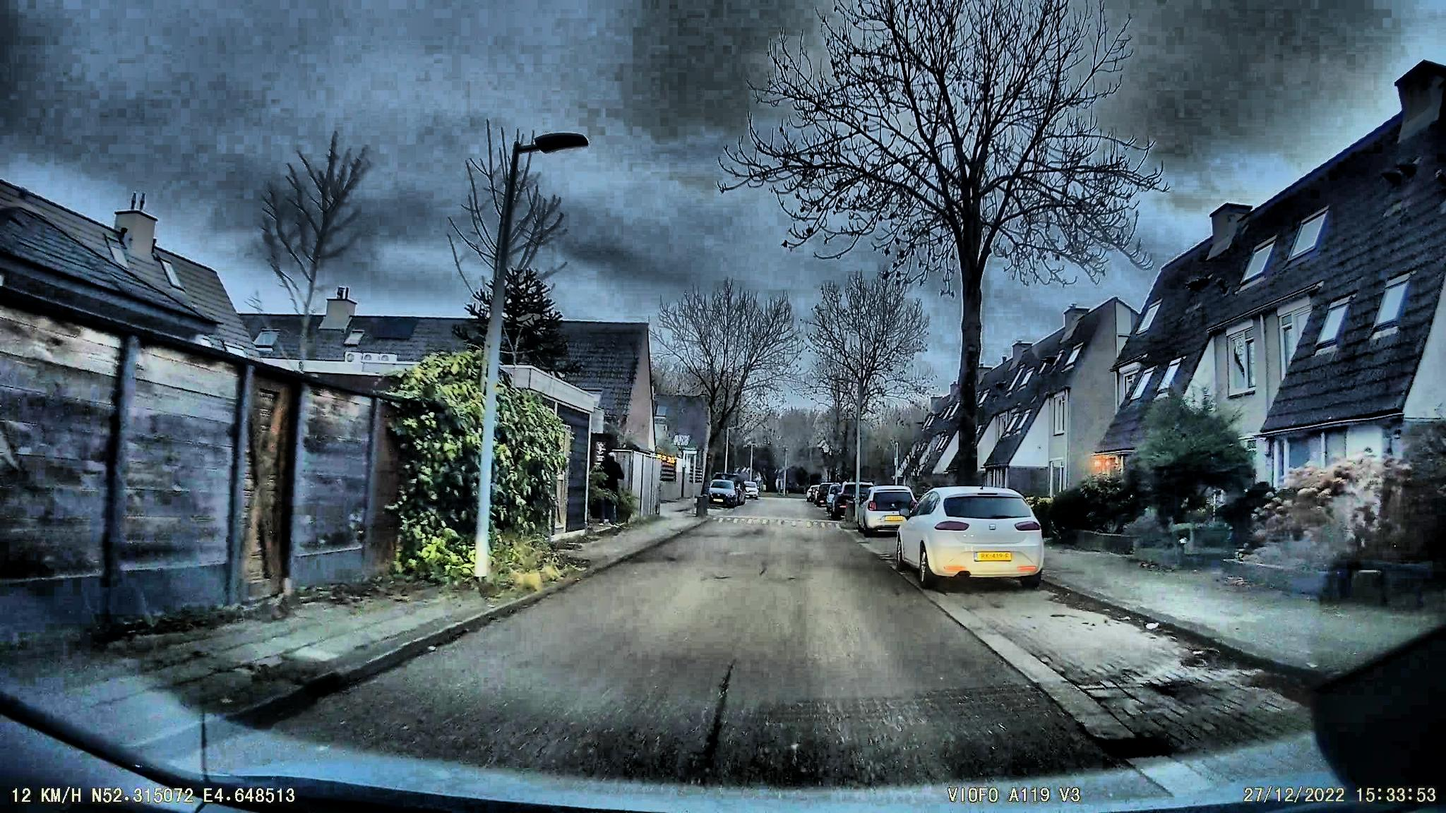Roads: (210, 500, 1342, 813)
